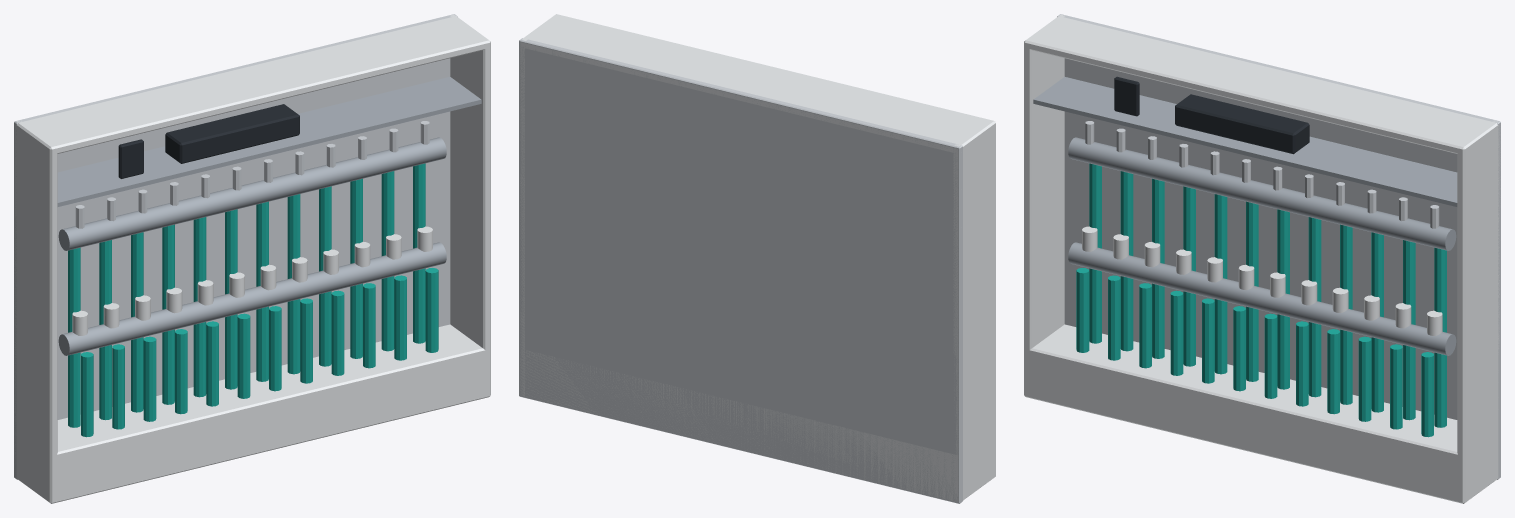
File: ufh-manifold-cabinet.glb
3 renders of one model, left to right at view 1: azimuth 30°, elevation 25°; view 2: azimuth 150°, elevation 25°; view 3: azimuth 330°, elevation 25°, orthographic.
Visible parts, largest first — view 1: ufh-manifold-cabinet; view 2: ufh-manifold-cabinet; view 3: ufh-manifold-cabinet.
Part boxes in pixels (x1,y1,x2,y2): ufh-manifold-cabinet: [14, 14, 490, 503]; ufh-manifold-cabinet: [519, 14, 995, 503]; ufh-manifold-cabinet: [1024, 14, 1500, 503].
Size of the model in its own units: 1.1 by 0.85 by 0.16.
